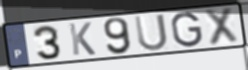3: (32, 24, 63, 61)
9: (102, 16, 132, 56)
G: (169, 11, 205, 49)
K: (67, 21, 98, 57)
U: (132, 12, 170, 52)
X: (203, 6, 240, 47)
